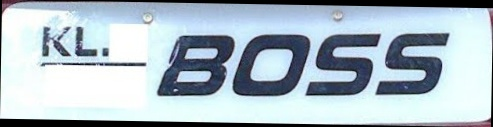character: (230, 32, 311, 99), (155, 33, 235, 98), (304, 32, 382, 97), (374, 32, 450, 96), (40, 22, 72, 59), (72, 23, 99, 56)
